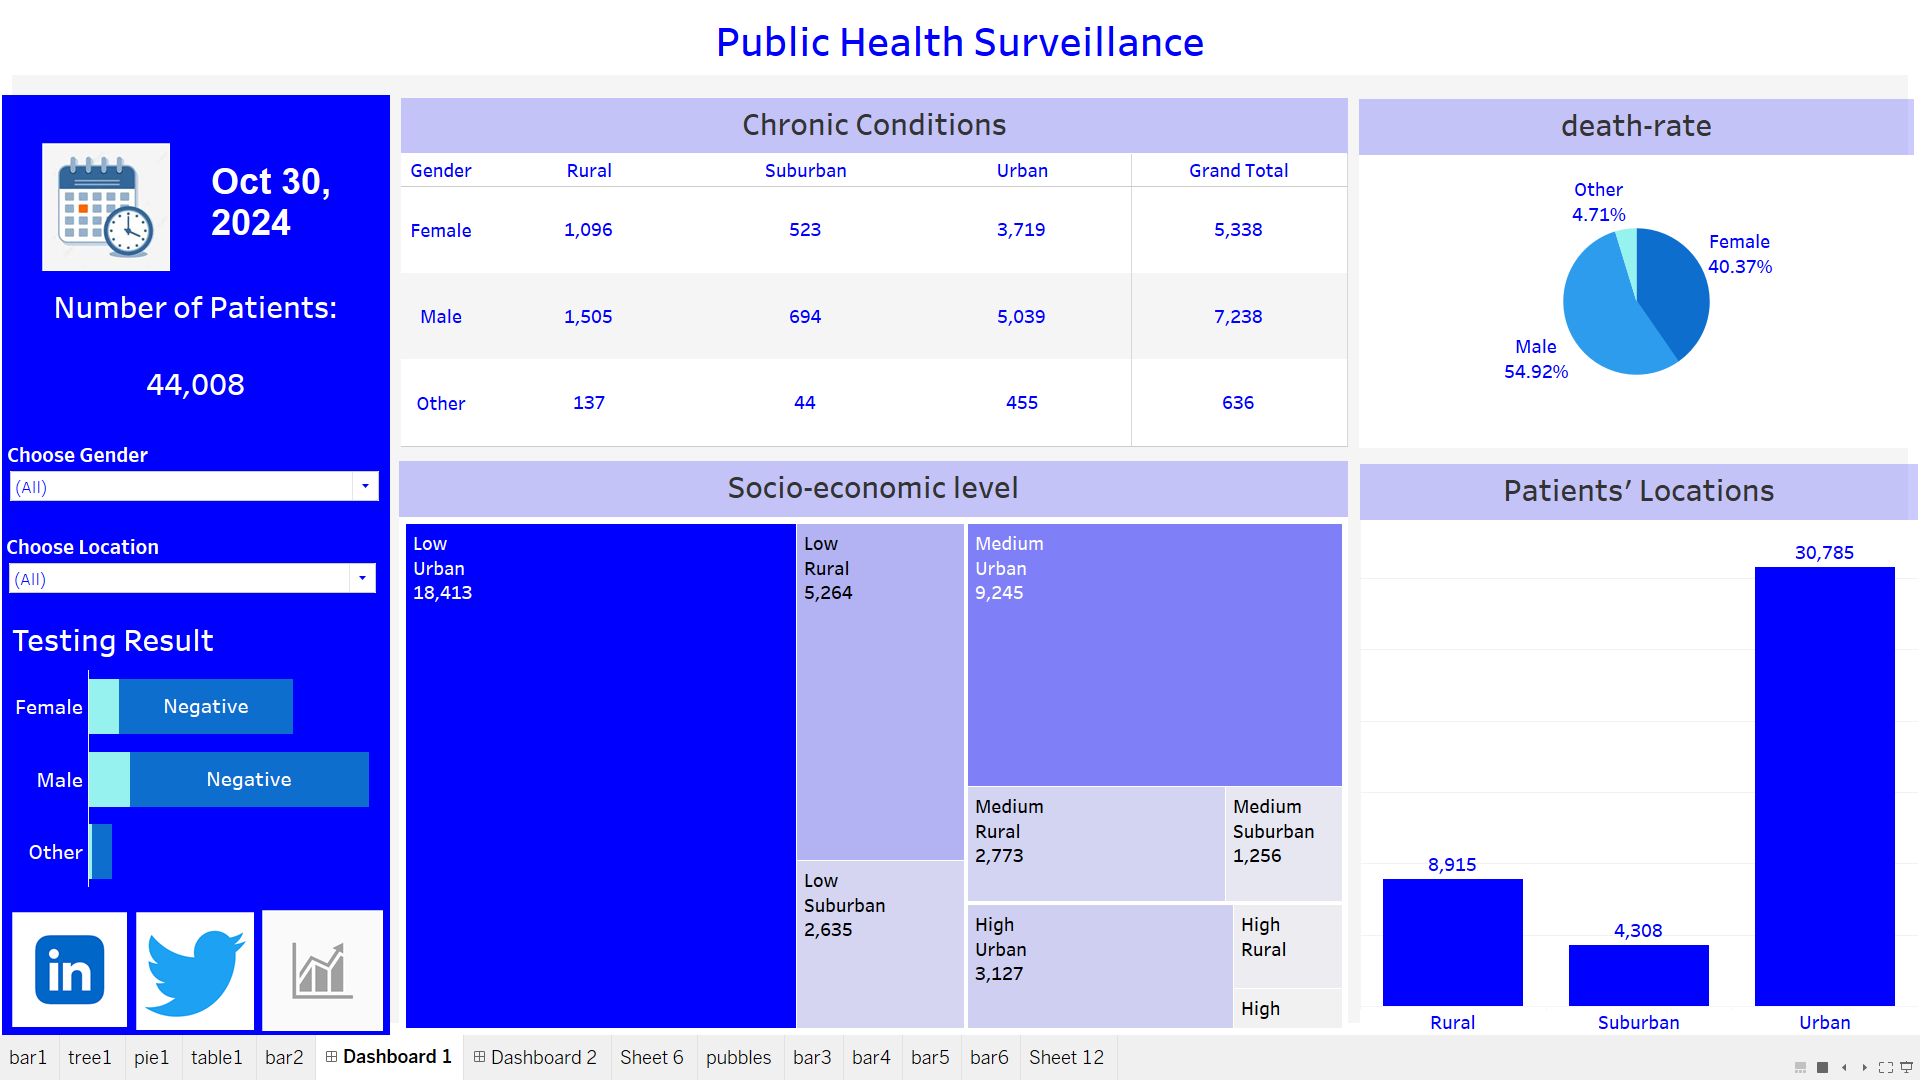

The dashboard page shown, as its layout file describes it:
{"tool":"tableau","page":{"name":"Dashboard 1","canvas":[1000,1000],"units":"permille","ordinal":0},"visuals":[{"type":"title","box":[5,9.9,990,78.2]},{"type":"blank","box":[5,88.1,990,902]},{"type":"blank","box":[1.2,91.8,202,909.4]},{"type":"worksheet","title":"table1","mark":"Automatic","rows":["Gender"],"cols":["Location"],"box":[208.8,94.3,493.1,337.5]},{"type":"worksheet","title":"pie1","mark":"Pie","box":[707.6,95.5,289.3,337.5]},{"type":"text","box":[107.9,117.9,87.9,155.1]},{"type":"image","param":"C:/Users/DELL/Downloads/download.jpg","box":[21.8,137.7,68,124.1]},{"type":"worksheet","title":"Sheet 6","mark":"Automatic","box":[5,271.7,193.3,142.7]},{"type":"filter","title":"table1","param":"[federated.1eh94mj0bdgy5k1bp96wi0a5zslh].[none:Gender:nk]","box":[3.7,425.6,195.1,84.4]},{"type":"worksheet","title":"tree1","mark":"Automatic","box":[207.6,445.4,494.4,554.6]},{"type":"worksheet","title":"bar1","mark":"Automatic","rows":["Patient_ID"],"cols":["Location"],"box":[708.2,447.9,290.5,552.1]},{"type":"filter","title":"table1","param":"[federated.1eh94mj0bdgy5k1bp96wi0a5zslh].[none:Location:nk]","box":[3.1,513.6,194.5,81.9]},{"type":"worksheet","title":"bar2","mark":"Automatic","rows":["Gender"],"cols":["Patient_ID"],"box":[4.4,593.1,195.1,264.3]},{"type":"dashboard-object","box":[136.5,878.4,63,117.9]},{"type":"image","param":"C:/Users/DELL/Downloads/download (1).png","box":[6.2,880.9,59.9,117.9]},{"type":"image","param":"C:/Users/DELL/Downloads/download (3).png","box":[71.1,880.9,62.3,114.1]}]}

Visuals, with their boxes on the dashboard's canvas, which has no fixed pixel size, in thousandths of its width and height (x1, y1, x2, y2). These are canvas units, not pixel positions in the 1920x1080 screenshot, which may show the page scaled, cropped or inside an application window:
title: [x1=5, y1=10, x2=995, y2=88]
blank: [x1=5, y1=88, x2=995, y2=990]
blank: [x1=1, y1=92, x2=203, y2=1001]
"table1" worksheet: [x1=209, y1=94, x2=702, y2=432]
"pie1" worksheet (Pie marks): [x1=708, y1=96, x2=997, y2=433]
text: [x1=108, y1=118, x2=196, y2=273]
image: [x1=22, y1=138, x2=90, y2=262]
"Sheet 6" worksheet: [x1=5, y1=272, x2=198, y2=414]
"table1" filter: [x1=4, y1=426, x2=199, y2=510]
"tree1" worksheet: [x1=208, y1=445, x2=702, y2=1000]
"bar1" worksheet: [x1=708, y1=448, x2=999, y2=1000]
"table1" filter: [x1=3, y1=514, x2=198, y2=596]
"bar2" worksheet: [x1=4, y1=593, x2=200, y2=857]
dashboard-object: [x1=136, y1=878, x2=200, y2=996]
image: [x1=6, y1=881, x2=66, y2=999]
image: [x1=71, y1=881, x2=133, y2=995]
